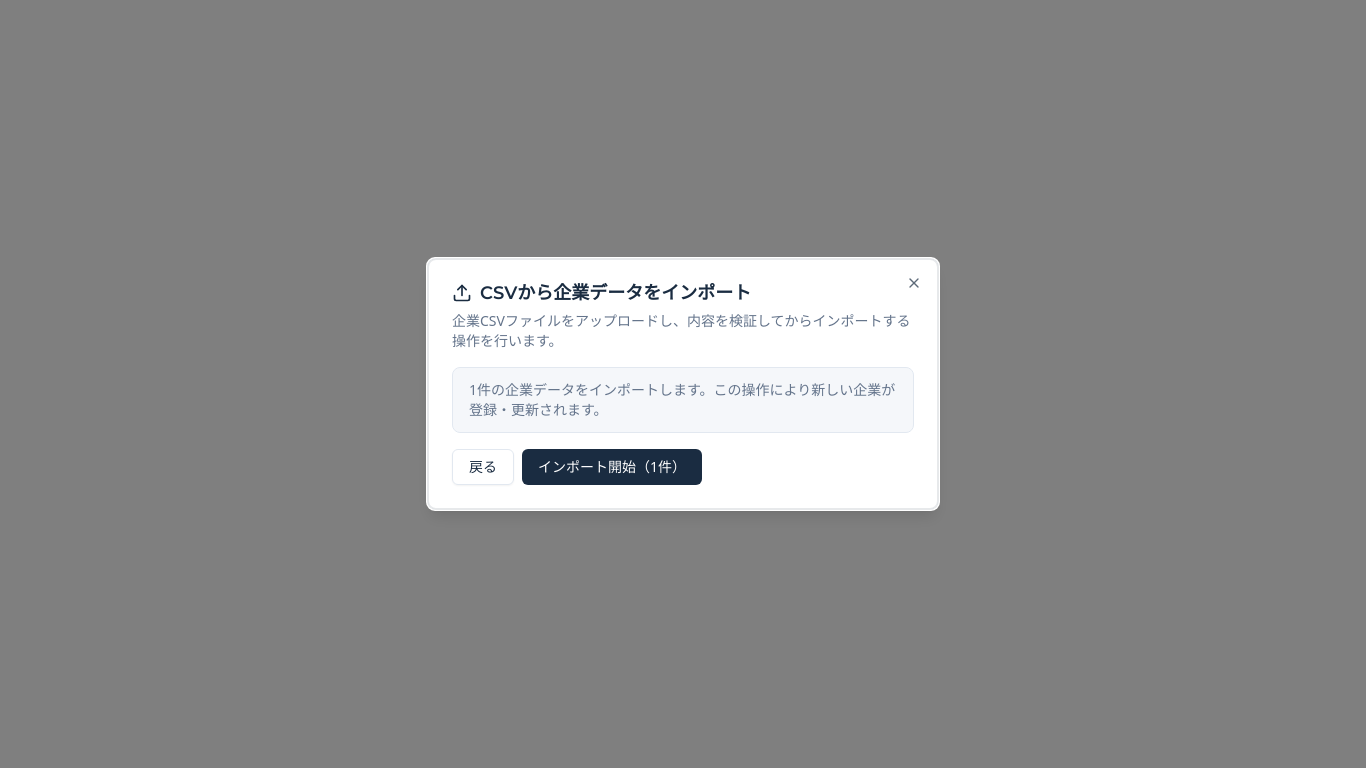
it: CSVImportDialog › displays categorized summary when import reports duplicates and validation errors
Earlier steps of the test are not shown.
Click the button "インポート開始（1件）".
click(612, 467)  # box [522,449,702,485]
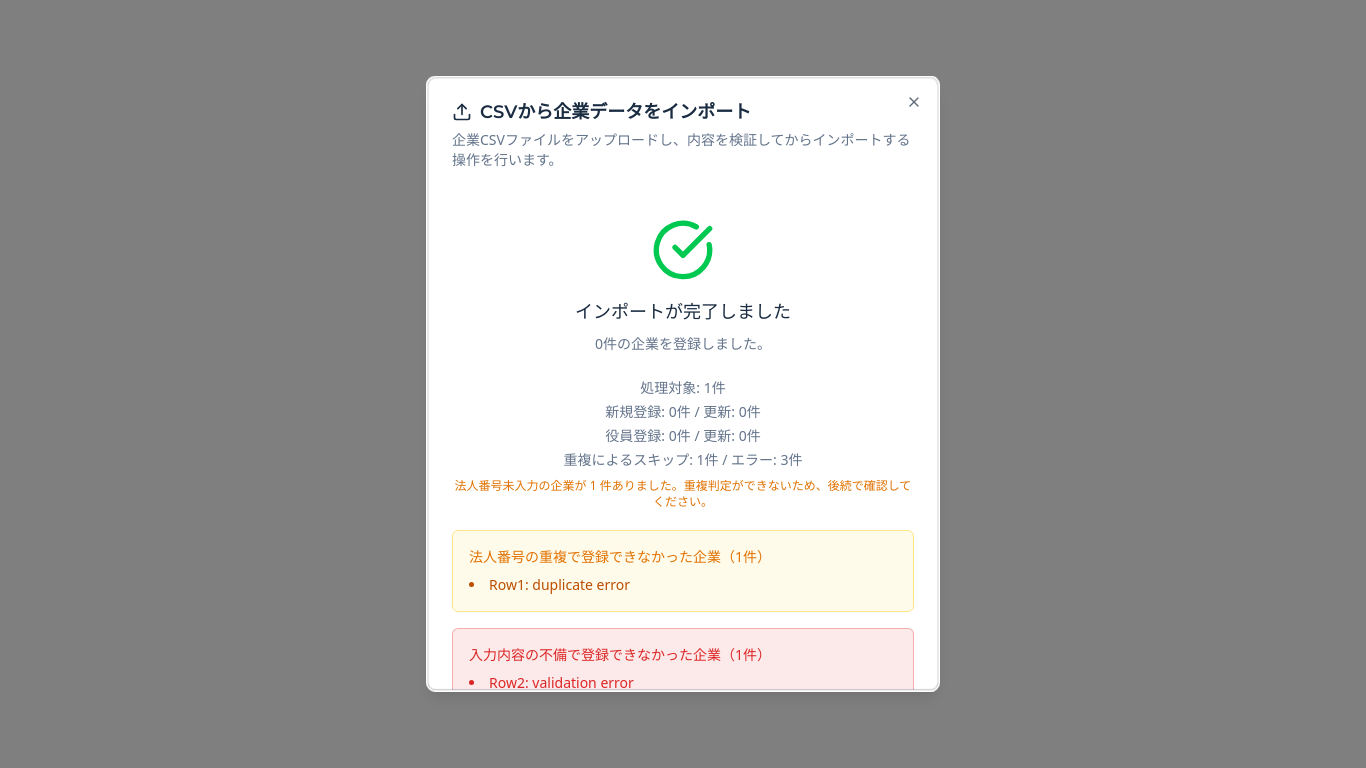
Expected: the text "法人番号の重複で登録できなかった企業（1件）" is shown, [469,547,771,566]
Expected: the text "入力内容の不備で登録できなかった企業（1件）" is shown, [469,645,771,664]
Expected: the text "法人番号未入力の企業が 1 件ありました。重複判定ができないため、後続で確認してください。" is shown, [452,478,914,510]
